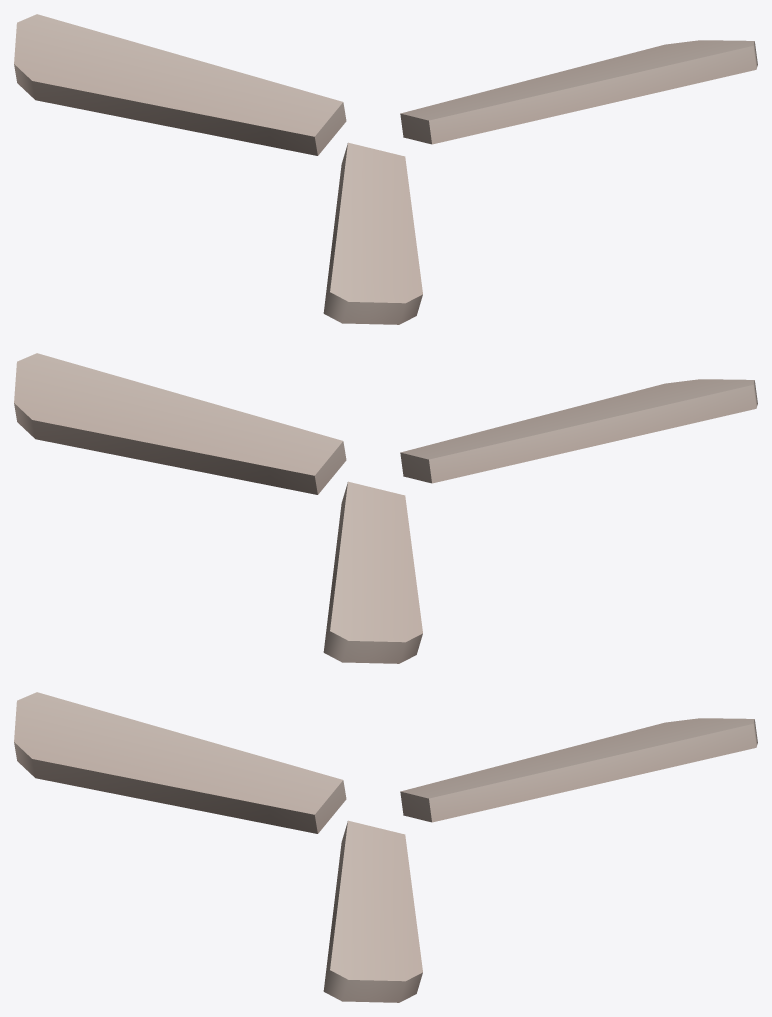
Rendered from (%no-merge) (%animation-rotate-y) 2.glb.
3 renders of one model, top to bottom at view 1: azimuth 30°, elevation 25°; view 2: azimuth 150°, elevation 25°; view 3: azimuth 270°, elevation 25°, orthographic.
Visible parts, largest first — view 1: (%no-merge) (%animation-rotate-y) 2; view 2: (%no-merge) (%animation-rotate-y) 2; view 3: (%no-merge) (%animation-rotate-y) 2.
Boxes of the visible parts, x1=… form: (%no-merge) (%animation-rotate-y) 2: x1=14, y1=14, x2=757, y2=324; (%no-merge) (%animation-rotate-y) 2: x1=14, y1=353, x2=757, y2=663; (%no-merge) (%animation-rotate-y) 2: x1=14, y1=692, x2=757, y2=1002.
Bounding box in the file's own units: 0.6841 × 0.0494 × 0.7531.
